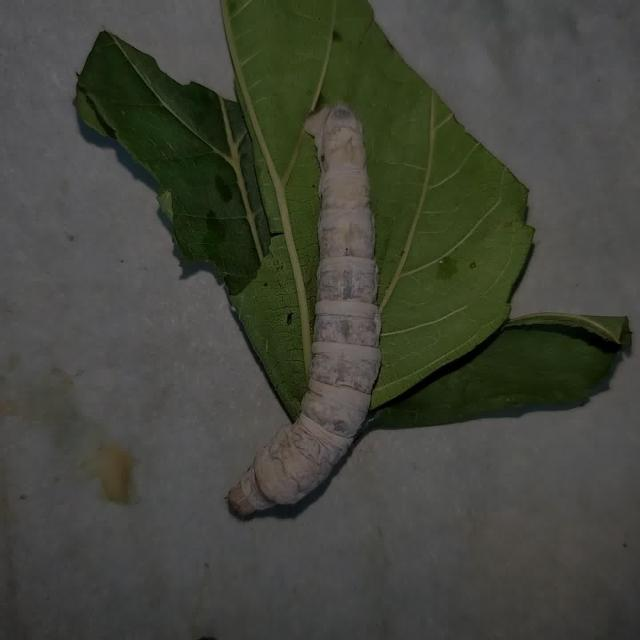Grasserie: (213, 89, 407, 532)
